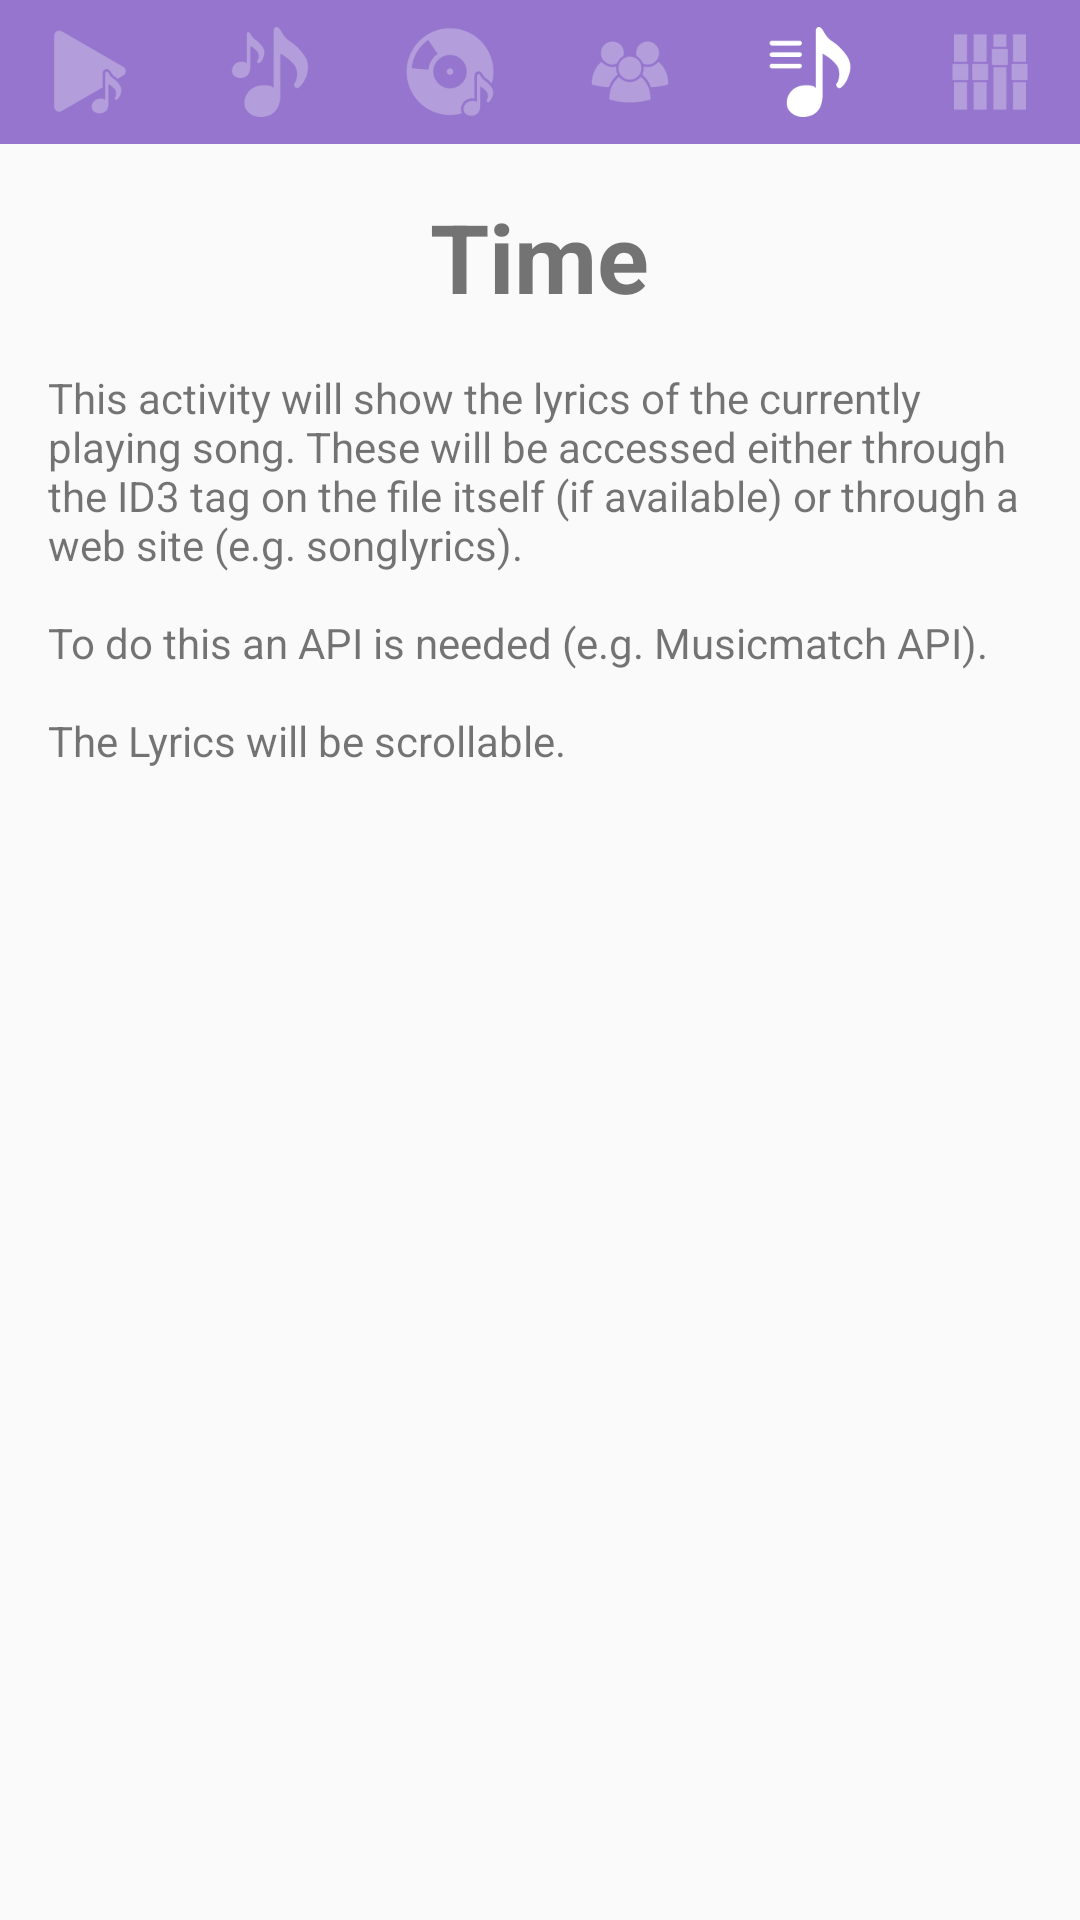

Locate icon controls on the screen. Image size 1080 × 1920, boxes as (x1, y1, x2, y2).
artist: (592, 42, 668, 102)
lyrics: (769, 27, 851, 117)
nowplaying: (54, 31, 126, 113)
